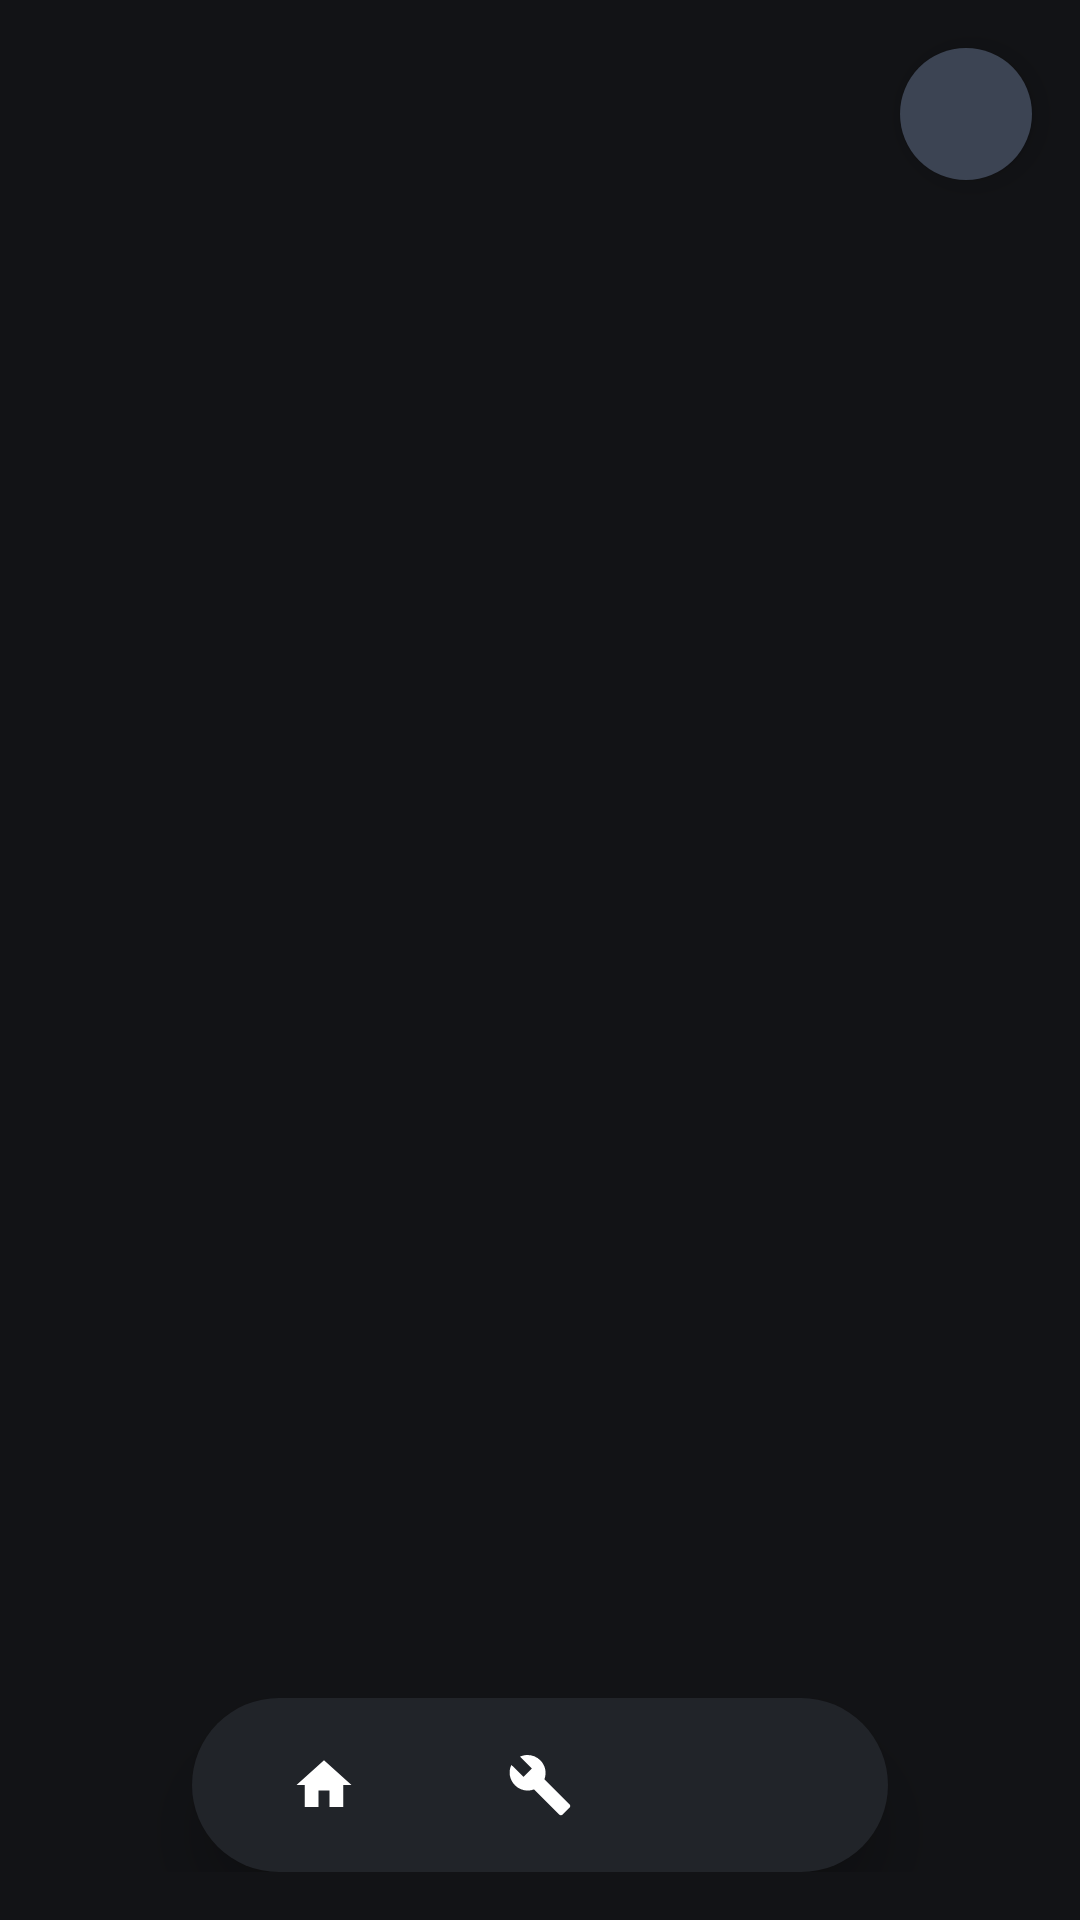

Icon click points for this 1080px x 1920px phone screenshot, format [x,y]:
home: [324,1783]
wrench: [540,1785]
